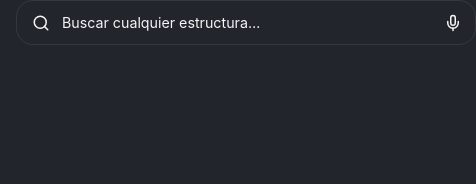
Test: Búsqueda global de catálogo › aplica el filtro de fichas a los resultados y lo comunica
Later steps or results of the test are not shown.
Type "scapula" into the dropdown at coordinates (244, 22), box top-left (60, 13), bottom-right (427, 32)
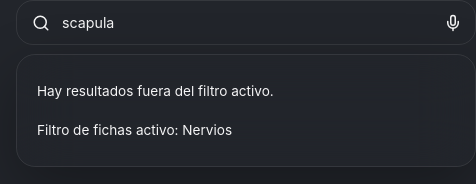
Check: the text "Hay resultados fuera del filtro activo." is shown, box top-left (37, 83), bottom-right (274, 99)
Check: the text "Filtro de fichas activo: Nervios" is shown, box top-left (37, 122), bottom-right (232, 138)
